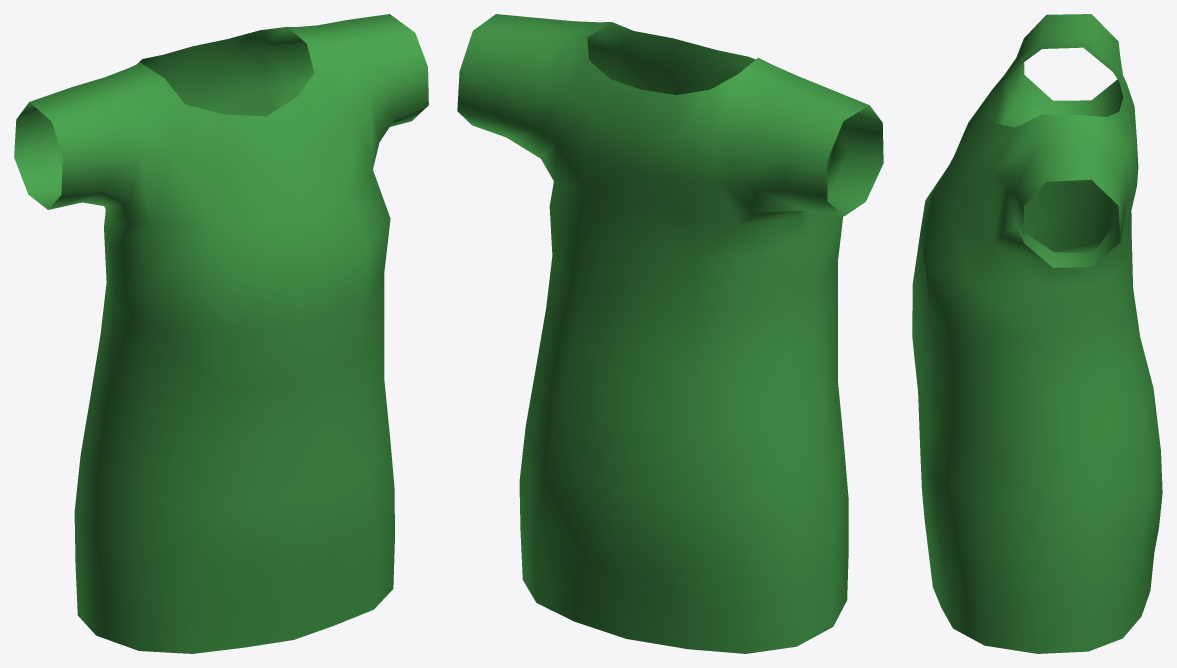
The model's file is Outerwear_Green_010.glb.
3 renders of one model, left to right at view 1: azimuth 30°, elevation 25°; view 2: azimuth 150°, elevation 25°; view 3: azimuth 270°, elevation 25°, orthographic. The views are drawn at different scales.
Parts seen in each view (by area): view 1: Outerwear_Green_010; view 2: Outerwear_Green_010; view 3: Outerwear_Green_010.
Boxes of the visible parts, x1=… form: Outerwear_Green_010: x1=14, y1=14, x2=428, y2=653; Outerwear_Green_010: x1=457, y1=14, x2=883, y2=653; Outerwear_Green_010: x1=912, y1=14, x2=1162, y2=653.
Bounding box in the file's own units: 0.6011 × 0.8466 × 0.3763.
Materials: 1 (1 with a texture image).
